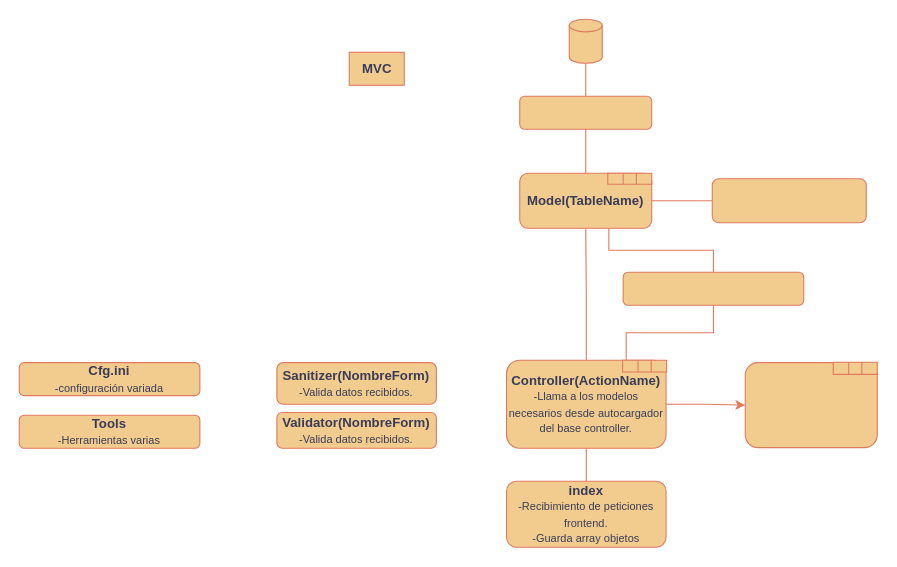
The diagram is 897 pixels wide and 567 high, and some of its shapes have lost their labels. The shapes that lost their labels are listed below. From the top down, each one's centre as x and y in pixels, then its label:
At [585,112]: "BaseModel".
At [788,200]: "DataBase -Database connection".
At [713,288]: "BaseController -el auto load register de modelos".
At [810,405]: "Entity(TableName) -Representan una tabla en forma de class".
